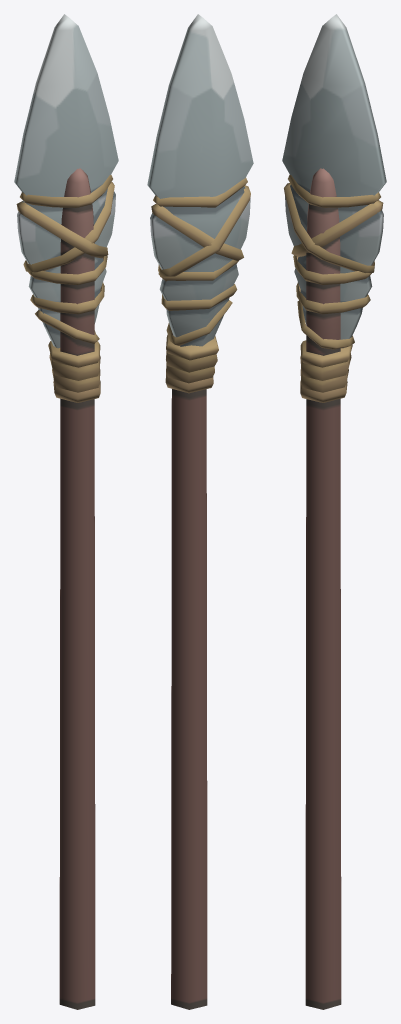
File: spear-static-l5.glb
3 views of the same model, side by side, from view 1: azimuth 30°, elevation 25°; view 2: azimuth 210°, elevation 25°; view 3: azimuth 330°, elevation 25° (orthographic).
Visible parts, largest first — view 1: SM_Spear_V5; view 2: SM_Spear_V5; view 3: SM_Spear_V5.
Part boxes in pixels (x1,y1,x2,y2): SM_Spear_V5: (14, 14, 118, 1009); SM_Spear_V5: (147, 14, 253, 1009); SM_Spear_V5: (282, 14, 386, 1009).
Size of the model in its own units: 25.8 by 242 by 20.23.
1 material, 1 textured.
